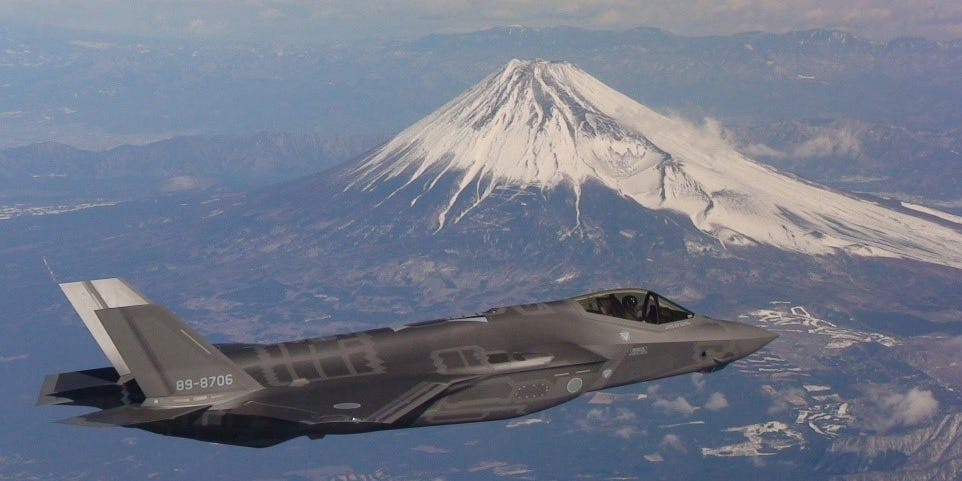F-35 Lightning: (28, 248, 790, 441)
